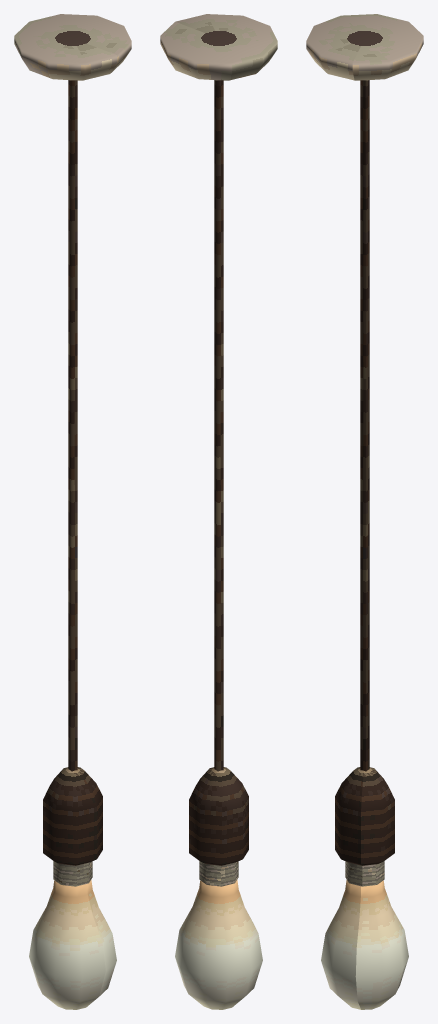
Rendered from bulb_hanging.obj.
3 views of the same model, side by side, from view 1: azimuth 30°, elevation 25°; view 2: azimuth 210°, elevation 25°; view 3: azimuth 330°, elevation 25° (orthographic).
Visible parts, largest first — view 1: bulb_hanging; view 2: bulb_hanging; view 3: bulb_hanging.
Boxes of the visible parts, x1,y1,x2,y2 form: bulb_hanging: [14, 14, 131, 1009]; bulb_hanging: [160, 14, 277, 1009]; bulb_hanging: [306, 14, 423, 1009].
Bounding box in the file's own units: 0.08 × 0.724 × 0.0761.
Materials: 2 (2 with a texture image).
